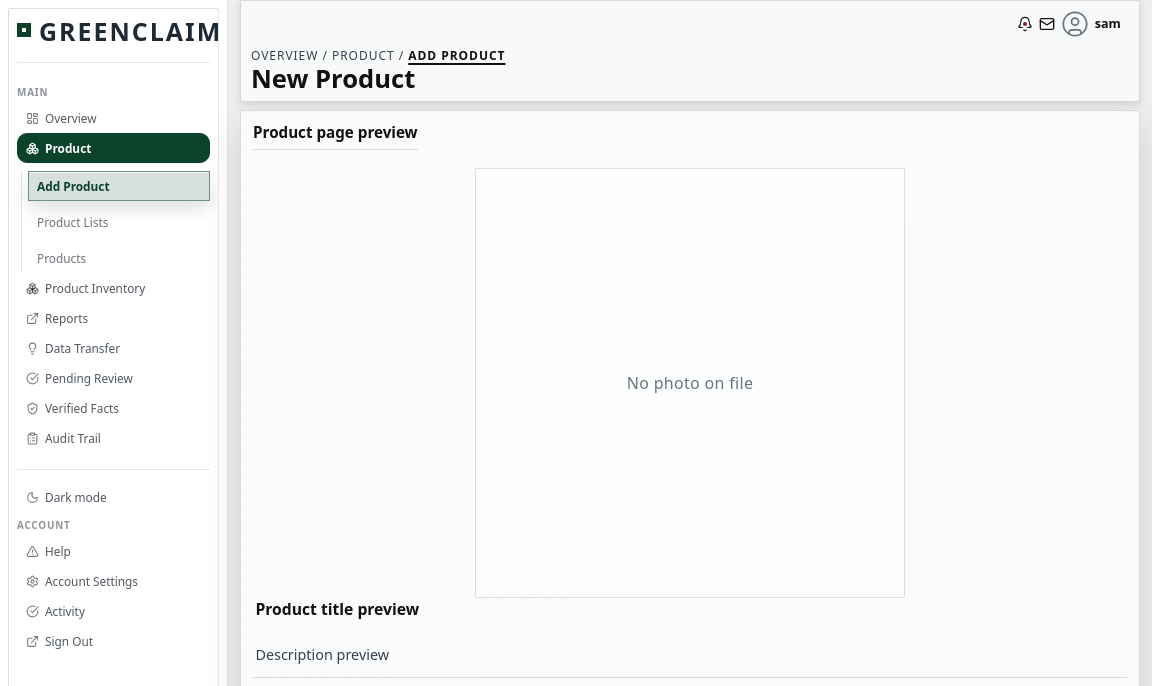
a Senior Editor › reviews a submission, sees what the writer decided, and publishes it after confirming
Step 1. Click the button "Pending Review" → click(114, 378), box [17, 363, 210, 393]
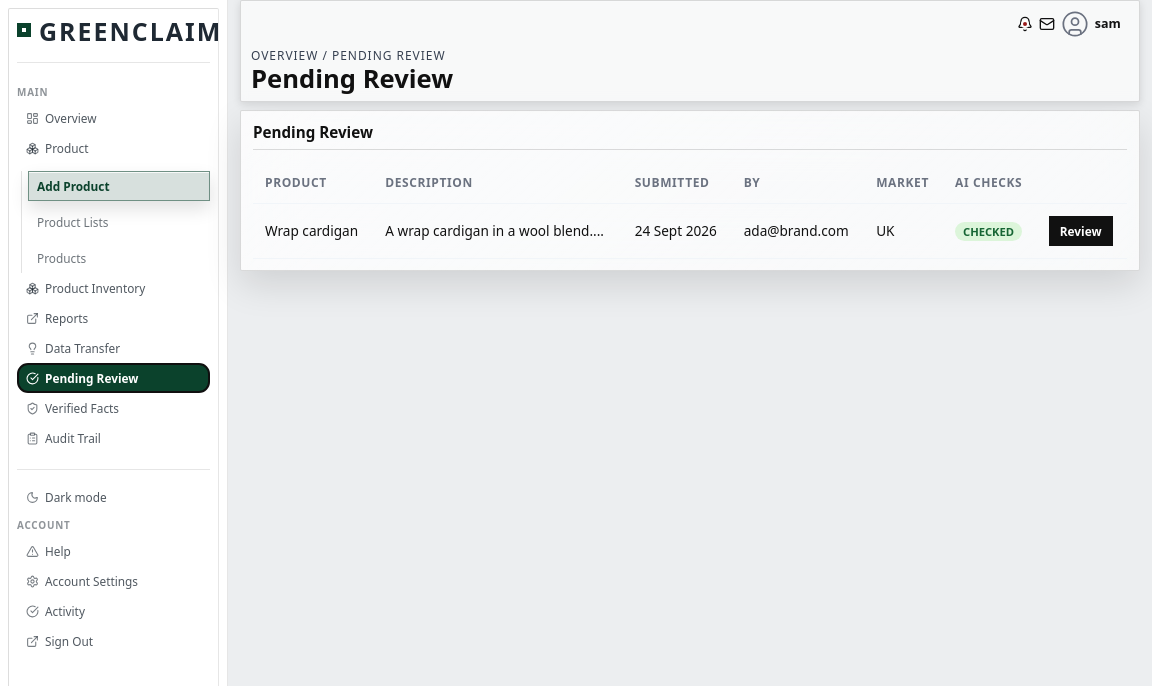
Expected: the text "ada@brand.com" is shown, [732, 203, 864, 258]
Step 2. Click the button "Review" → click(1081, 231), box [1049, 216, 1113, 246]
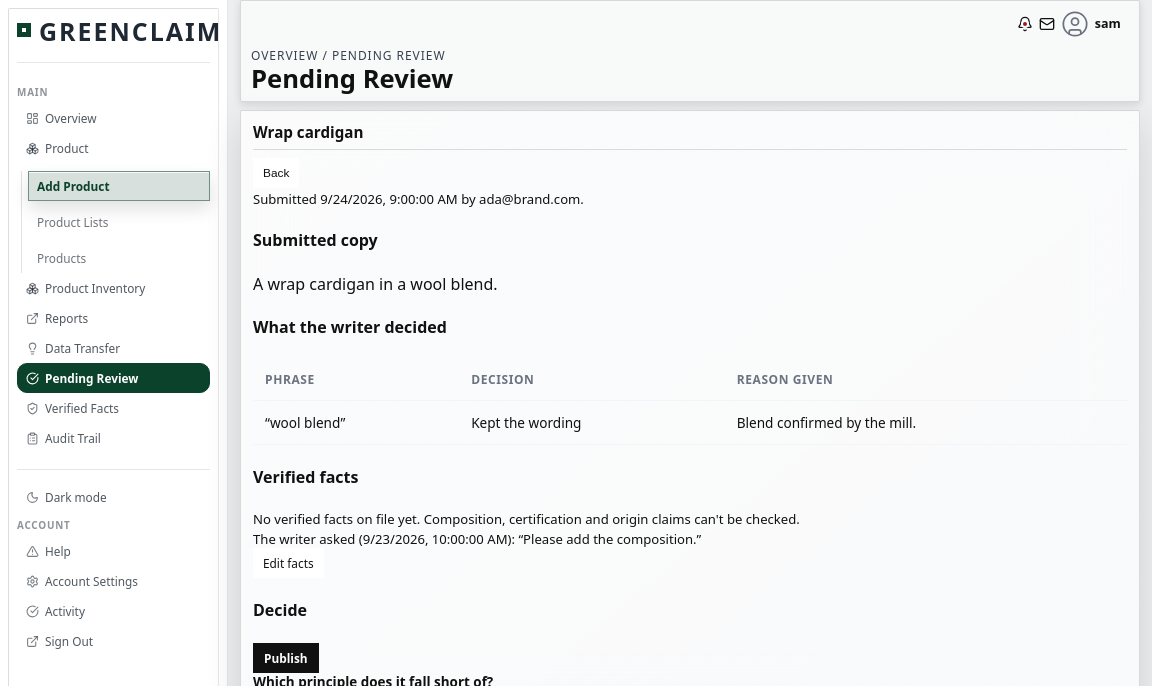
Expected: the text "Blend confirmed by the mill." is shown, [725, 401, 1127, 445]
Step 3. Click the button "Publish" → click(286, 658), box [253, 642, 319, 672]
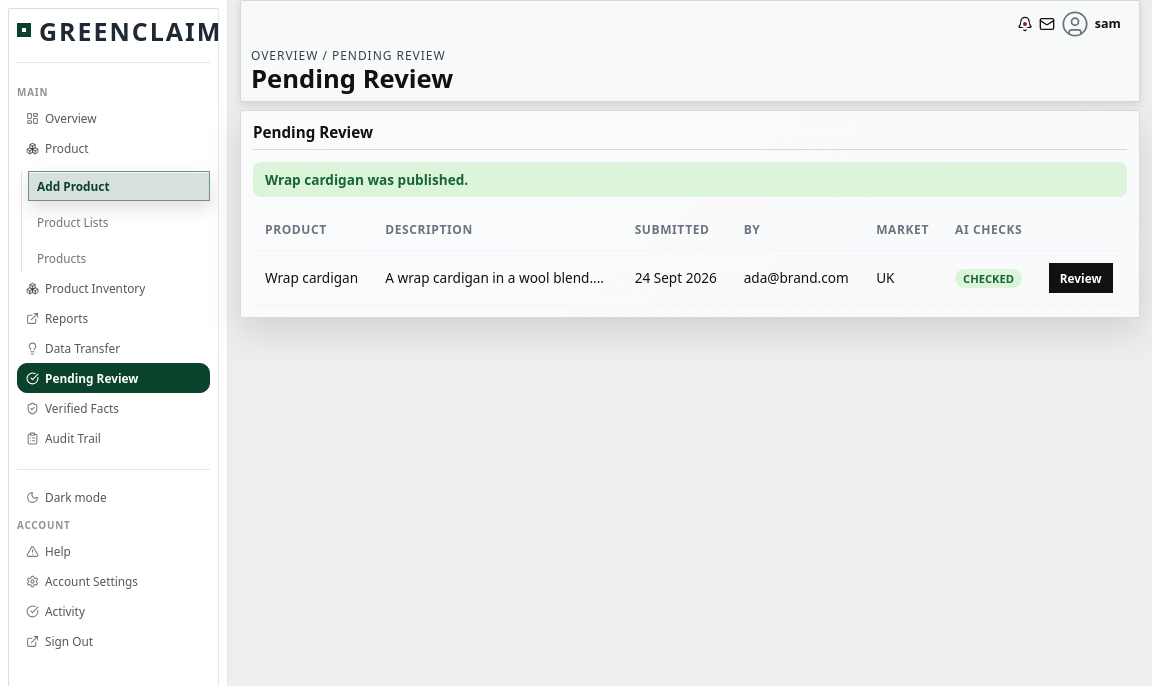
Expected: the text "Wrap cardigan was published." is shown, [253, 162, 1127, 197]
